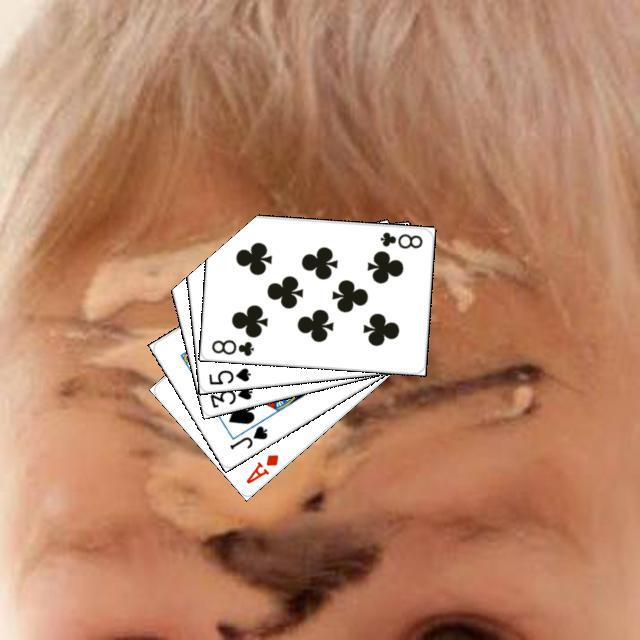3s: (205, 381, 254, 409)
5s: (204, 363, 252, 386)
8c: (375, 227, 424, 251), (207, 335, 256, 357)
Ad: (241, 449, 280, 486)
Js: (225, 420, 269, 451)
